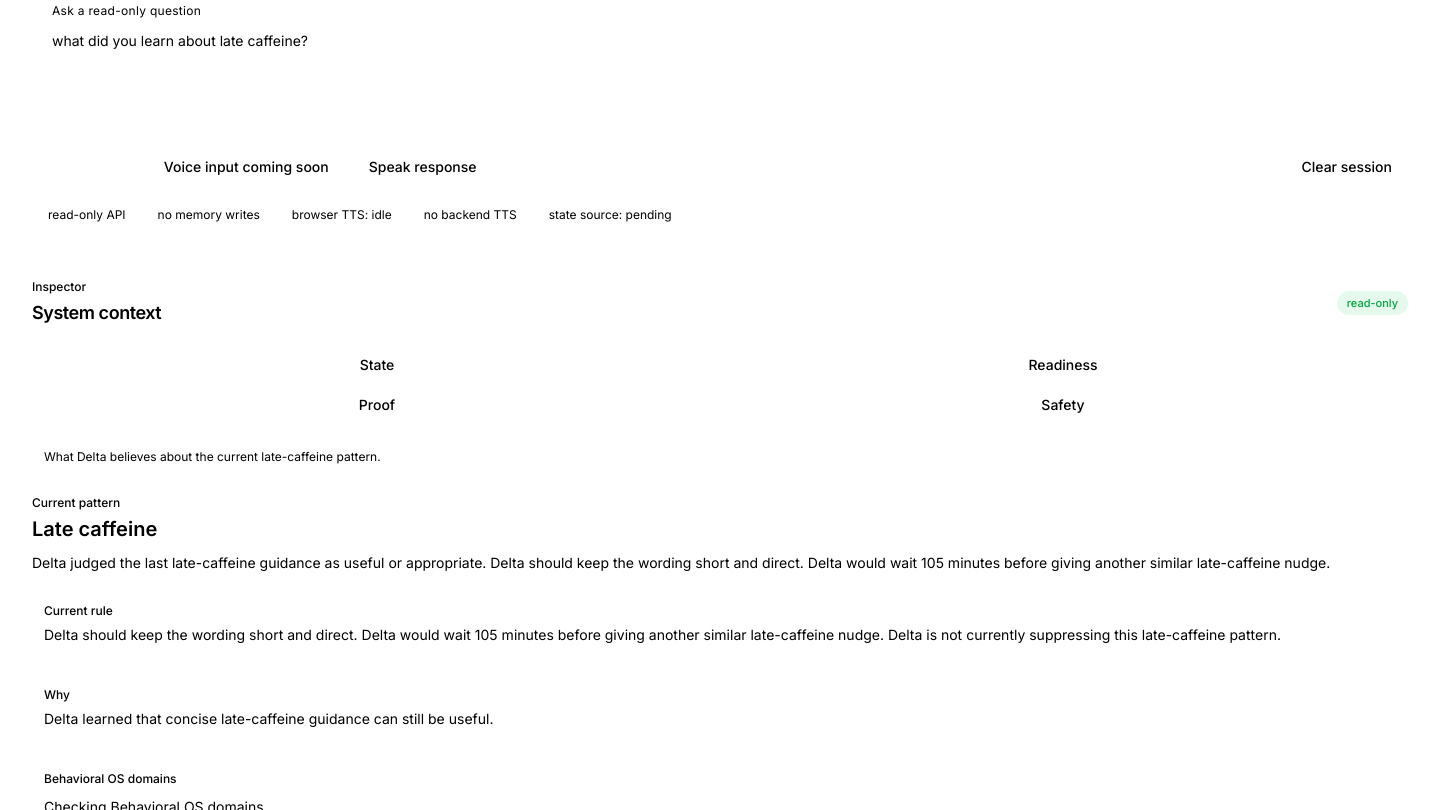
Test: OSConsole command center › keeps browser voice input, wake word, and always-on marked not built
(page scrolled)
Click the button "Safety" at (1063, 405), box x1=722 y1=387 x2=1404 y2=423
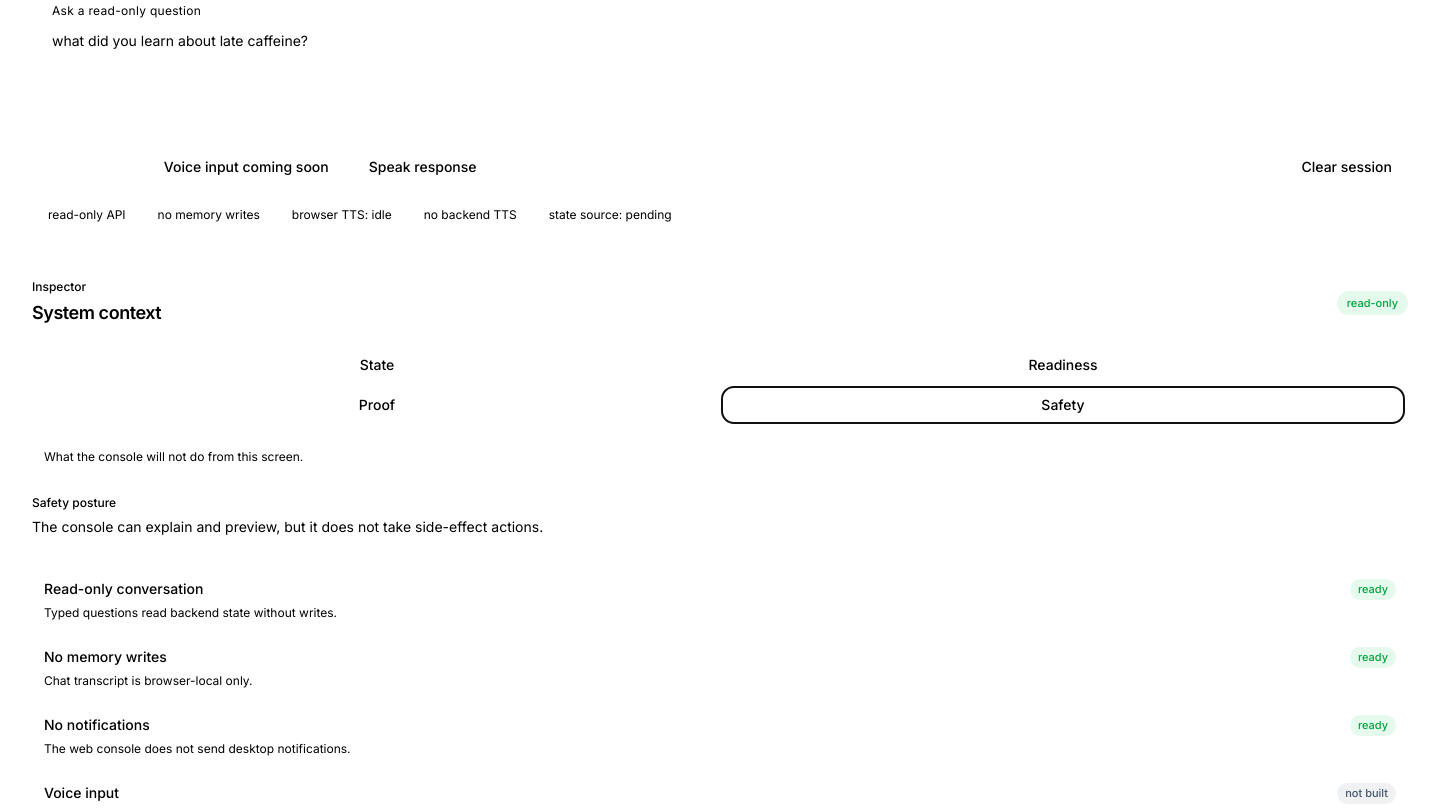
Expected: the button "Voice input coming soon" is disabled, x1=148 y1=149 x2=345 y2=185
Result: the text "Voice input" is shown at x1=44 y1=784 x2=119 y2=801
Result: the text "not built" is shown at x1=1337 y1=783 x2=1396 y2=804
